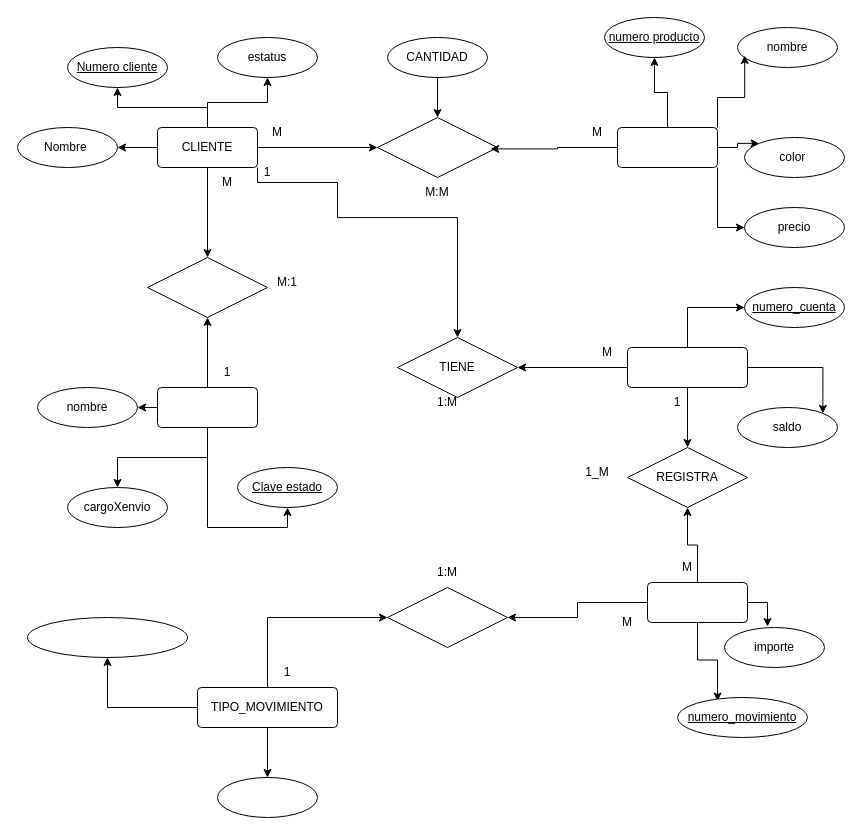
The diagram is 862 pixels wide and 835 high, and some of its shapes have lost their labels. The centre of each missing label's shape, as x and y in pixels:
"clave_tipo_movimiento" goes at (107,637).
"CUENTA_CREDITO" goes at (687,367).
"decripcion" goes at (267,797).
"ES DE TIPO" goes at (447,617).
"ESTADO" goes at (207,407).
"MOVIMIENTO" goes at (697,602).
"ORDENA" goes at (437,147).
"PRODUCTO" goes at (667,147).
"VIVE_EN" goes at (207,287).
